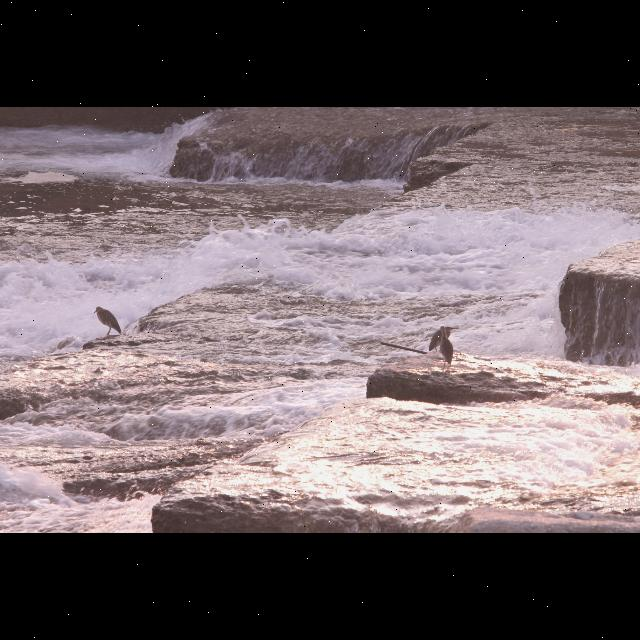heron: (91, 302, 125, 342)
